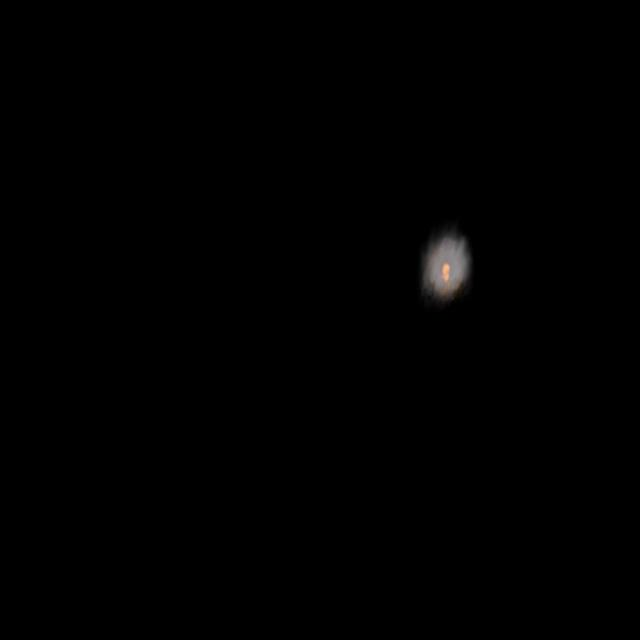fire: (440, 260, 451, 279)
smoke: (412, 222, 482, 312)
